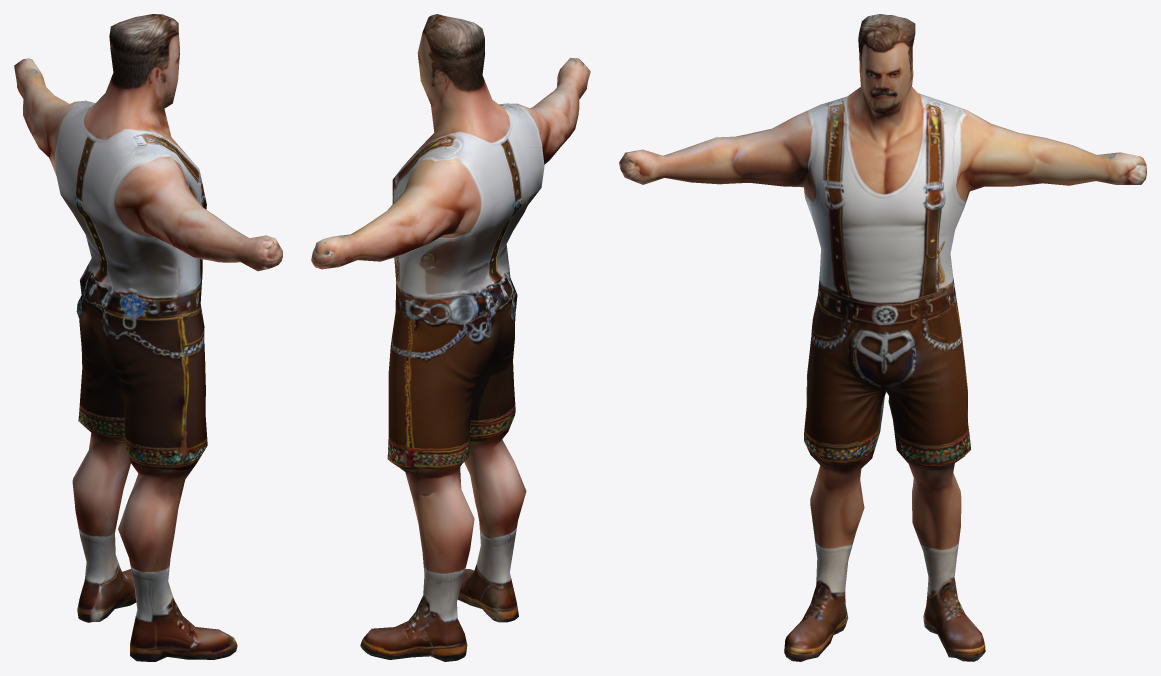
3 renders of one model, left to right at view 1: azimuth 30°, elevation 25°; view 2: azimuth 150°, elevation 25°; view 3: azimuth 270°, elevation 25°, orthographic. The views are drawn at different scales.
Visible parts, largest first — view 1: RETOPO; view 2: RETOPO; view 3: RETOPO.
Boxes of the visible parts, x1=… form: RETOPO: x1=14, y1=14, x2=282, y2=661; RETOPO: x1=311, y1=14, x2=590, y2=661; RETOPO: x1=619, y1=14, x2=1146, y2=661.
Size of the model in its own units: 0.1679 by 0.846 by 0.6486.
Materials: 1 (1 with a texture image).
